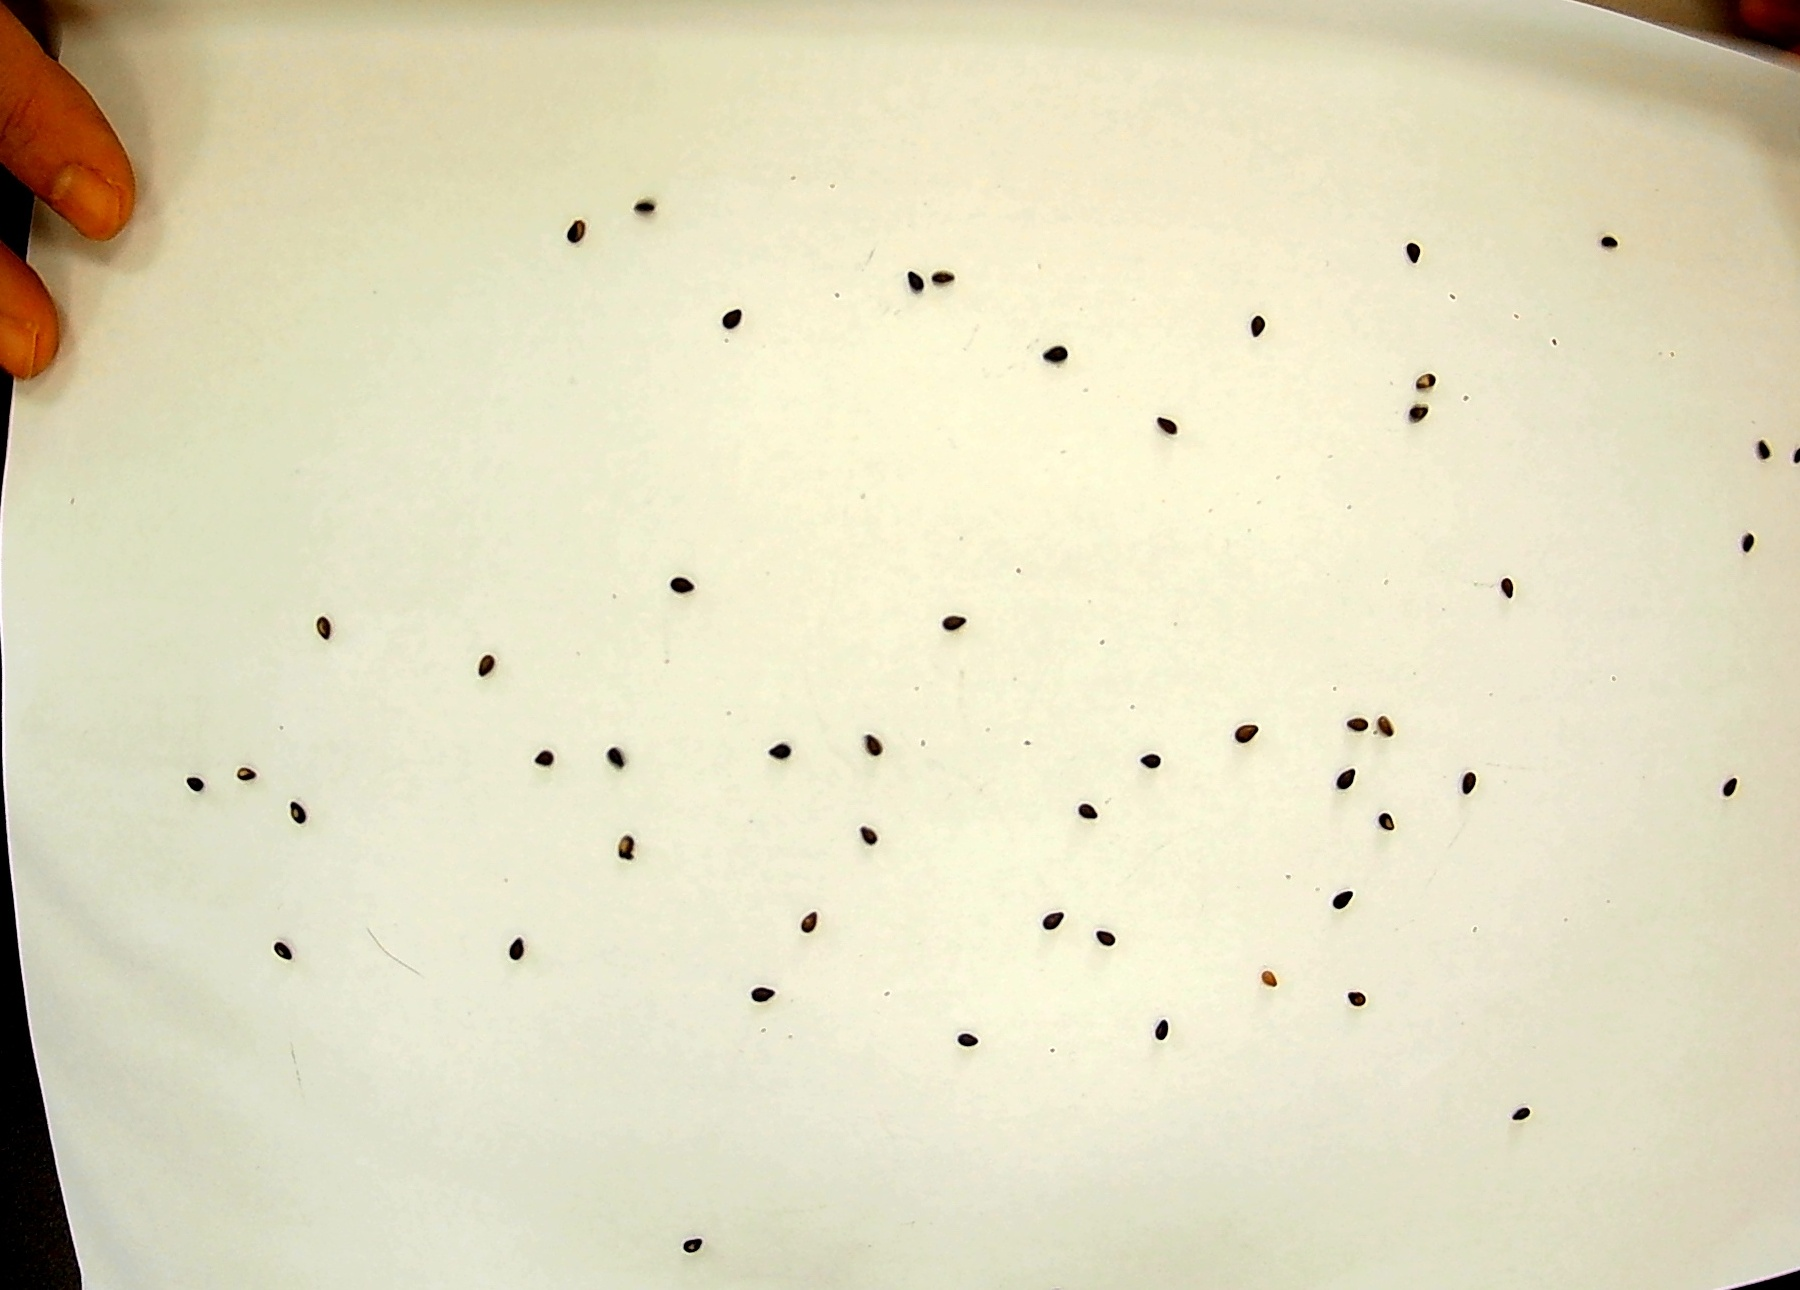sesami: (518, 746, 553, 780), (587, 743, 622, 778), (501, 926, 536, 961), (285, 792, 320, 826), (232, 750, 267, 785), (307, 616, 342, 651), (1040, 336, 1074, 371), (1235, 316, 1270, 350), (1500, 572, 1535, 607), (1404, 403, 1439, 438), (1386, 704, 1420, 739), (1330, 757, 1365, 792), (1134, 746, 1169, 780), (841, 815, 876, 850), (1330, 884, 1365, 919), (1150, 1014, 1185, 1048), (569, 215, 606, 249), (1342, 974, 1379, 1008), (666, 572, 700, 606), (712, 300, 747, 334), (628, 200, 663, 233), (465, 646, 500, 680), (606, 826, 640, 860), (269, 927, 304, 961), (180, 773, 215, 807), (892, 257, 927, 290), (920, 264, 954, 297), (1147, 406, 1182, 440), (1407, 235, 1441, 268), (1596, 226, 1631, 260), (1753, 426, 1787, 459), (1725, 519, 1760, 553), (1716, 780, 1751, 814), (1404, 360, 1439, 394), (1447, 761, 1482, 794), (1365, 808, 1400, 842), (1345, 695, 1380, 729), (1227, 715, 1261, 748), (1065, 797, 1100, 831), (945, 605, 980, 638), (857, 723, 892, 757), (767, 737, 802, 771), (797, 914, 832, 948), (737, 977, 772, 1011), (674, 1234, 709, 1268), (954, 1030, 989, 1064), (1027, 899, 1062, 933), (1080, 910, 1115, 944), (1259, 966, 1293, 1000), (1501, 1093, 1536, 1127)
